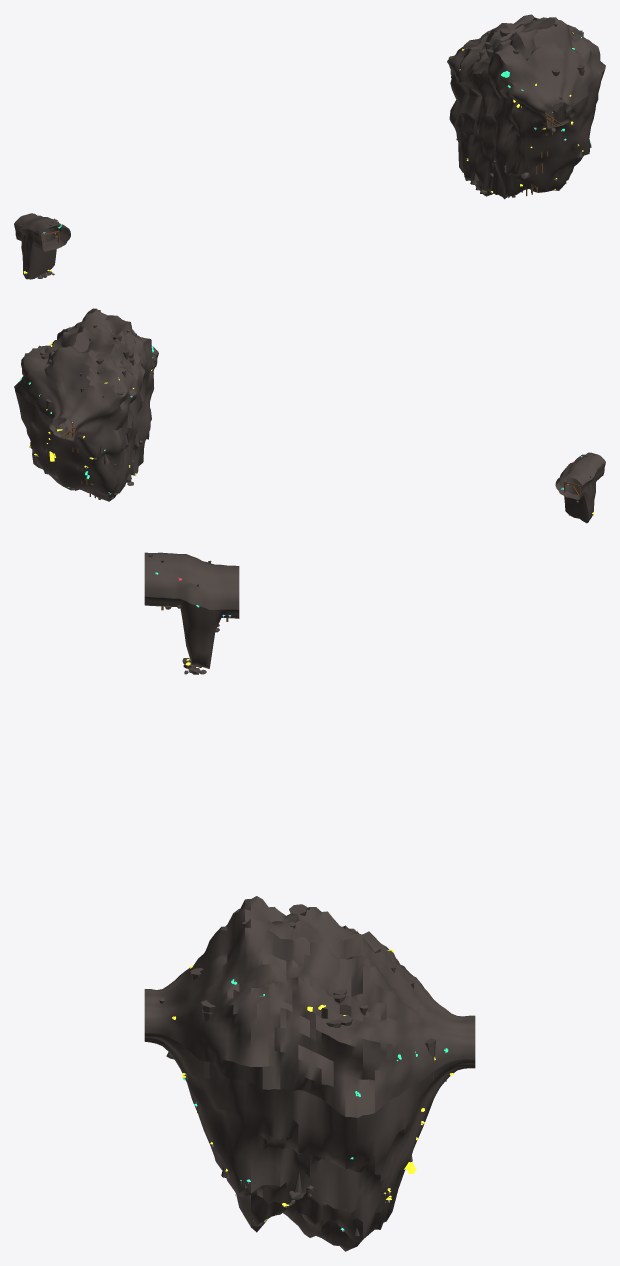
The model's file is LastCartDown_GapKit.glb.
The picture shows the model from 3 angles, top to bottom: view 1: azimuth 30°, elevation 25°; view 2: azimuth 150°, elevation 25°; view 3: azimuth 270°, elevation 25°; orthographic projection. The views are drawn at different scales.
Parts seen in each view (by area): view 1: Cavern_Rift__Rock, Tunnel_Washout__Rock; view 2: Cavern_Rift__Rock, Tunnel_Washout__Rock; view 3: Cavern_Rift__Rock, Tunnel_Washout__Rock.
Boxes of the visible parts, x1,y1,x2,y2 form: Cavern_Rift__Rock: [447, 14, 605, 199]; Tunnel_Washout__Rock: [14, 213, 70, 279]; Cavern_Rift__Rock: [14, 308, 158, 501]; Tunnel_Washout__Rock: [555, 452, 605, 523]; Cavern_Rift__Rock: [144, 896, 475, 1251]; Tunnel_Washout__Rock: [144, 552, 239, 674].
Bounding box in the file's own units: 848 × 248 × 224.
